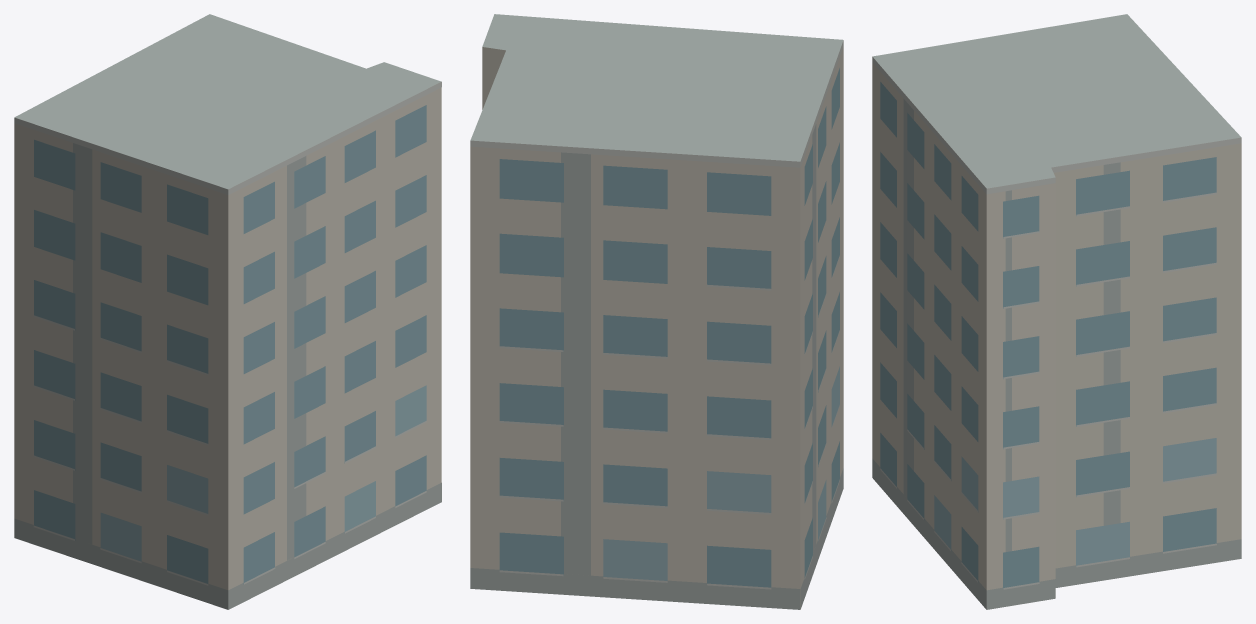
File: residential-28f89df6-9159-458a-8291-913b245ee6b4.glb
3 views of the same model, side by side, from view 1: azimuth 30°, elevation 25°; view 2: azimuth 150°, elevation 25°; view 3: azimuth 270°, elevation 25° (orthographic). The views are drawn at different scales.
Parts seen in each view (by area): view 1: residential-28f89df6-9159-458a-8291-913b245ee6b4.tmp; view 2: residential-28f89df6-9159-458a-8291-913b245ee6b4.tmp; view 3: residential-28f89df6-9159-458a-8291-913b245ee6b4.tmp.
Part boxes in pixels (<box>): residential-28f89df6-9159-458a-8291-913b245ee6b4.tmp: <box>14,14,441,609</box>; residential-28f89df6-9159-458a-8291-913b245ee6b4.tmp: <box>470,14,843,609</box>; residential-28f89df6-9159-458a-8291-913b245ee6b4.tmp: <box>872,14,1241,609</box>.
Bounding box in the file's own units: 16.02 × 18 × 14.32.
